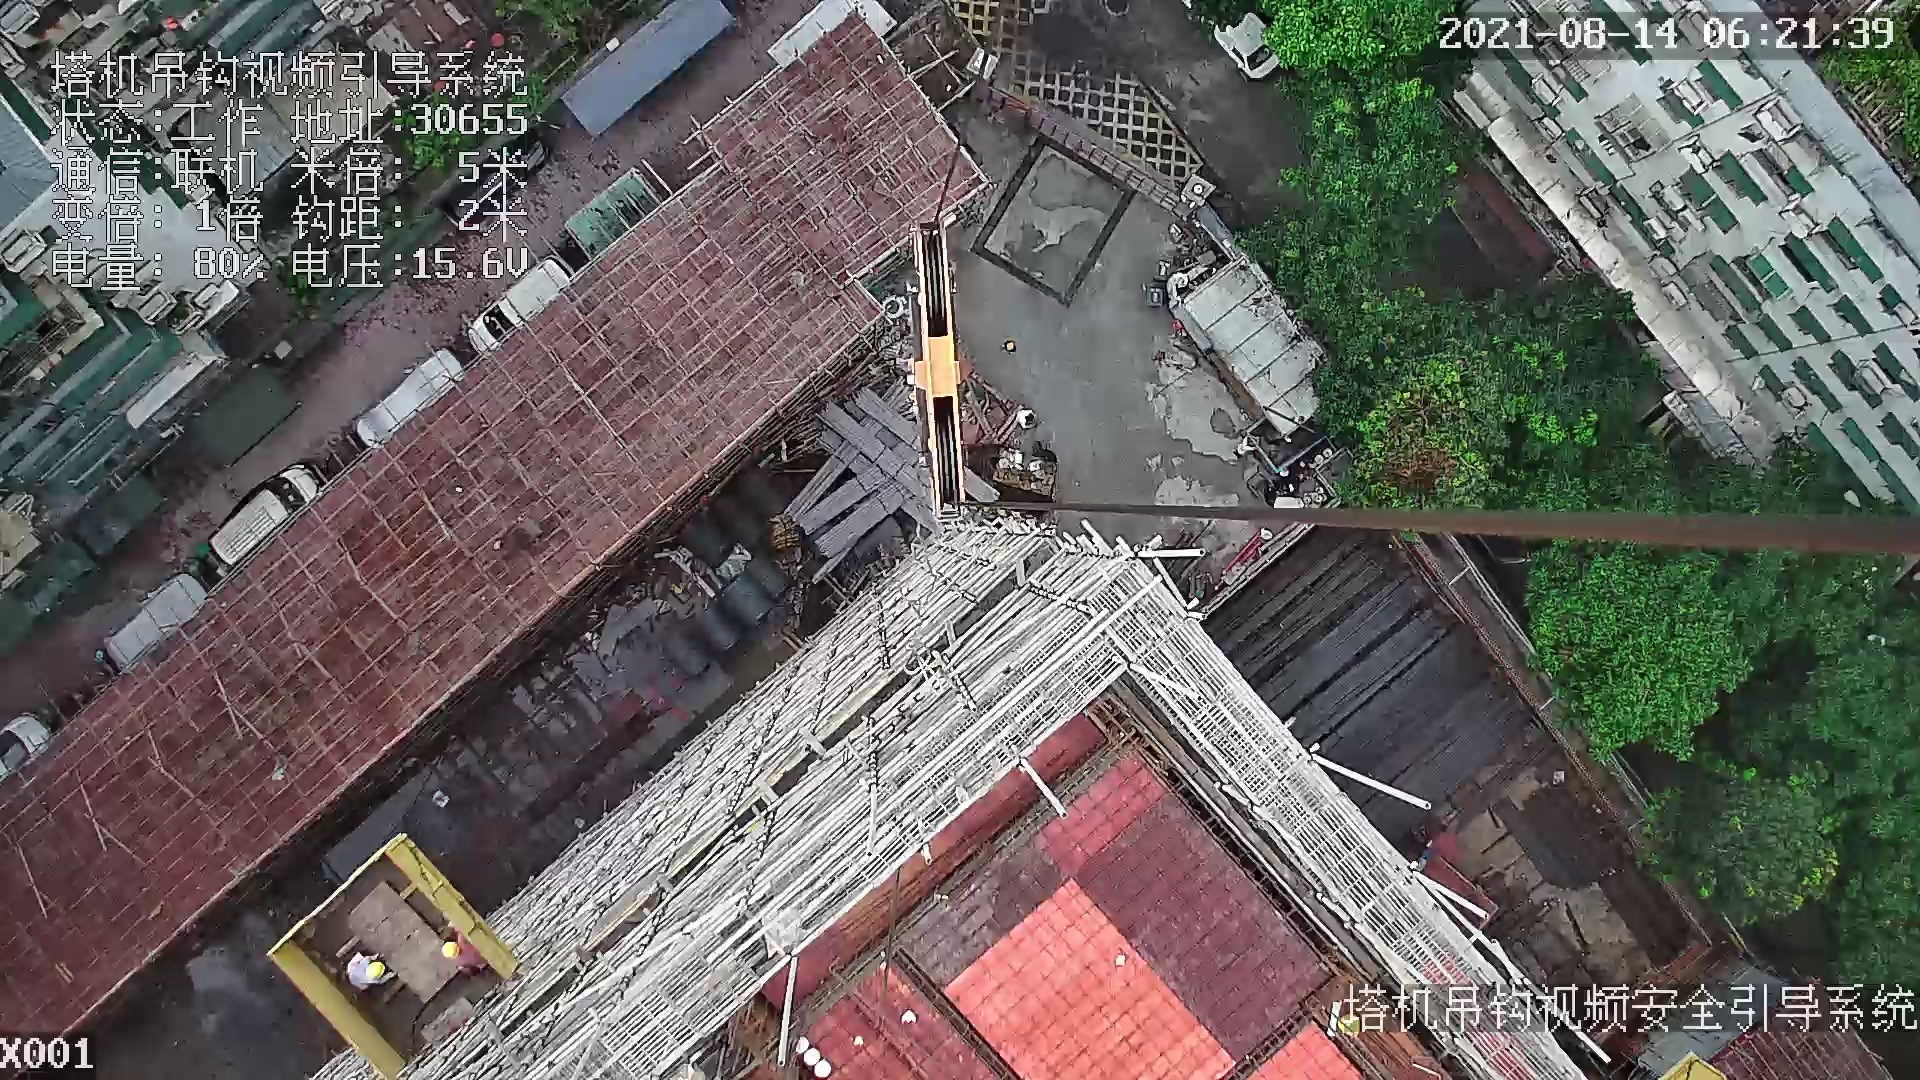helmet: (439, 940, 461, 961), (364, 964, 385, 980)
hook: (903, 215, 972, 517)
person: (332, 951, 394, 986), (433, 927, 477, 969)
